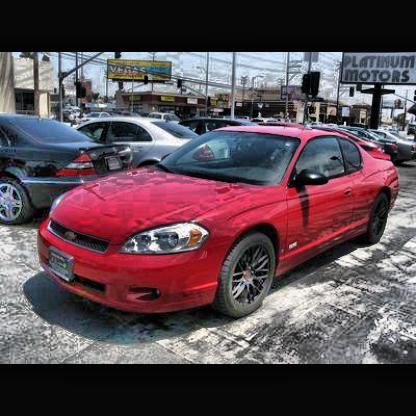Chevrolet Monte Carlo Coupe 2007: (40, 128, 401, 322)
